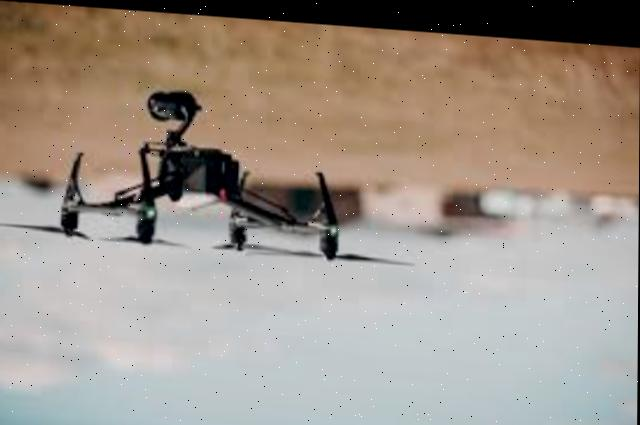drone: (3, 76, 421, 287)
